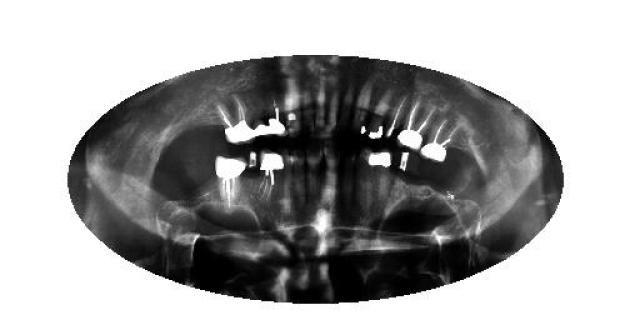Fillings: (367, 88, 392, 140), (373, 147, 392, 205), (292, 148, 306, 202), (282, 148, 294, 198), (254, 112, 270, 140)
Implant: (398, 100, 437, 151), (215, 95, 254, 145), (212, 155, 246, 211), (421, 115, 459, 164), (255, 149, 284, 199), (385, 92, 407, 144), (267, 89, 285, 138)
